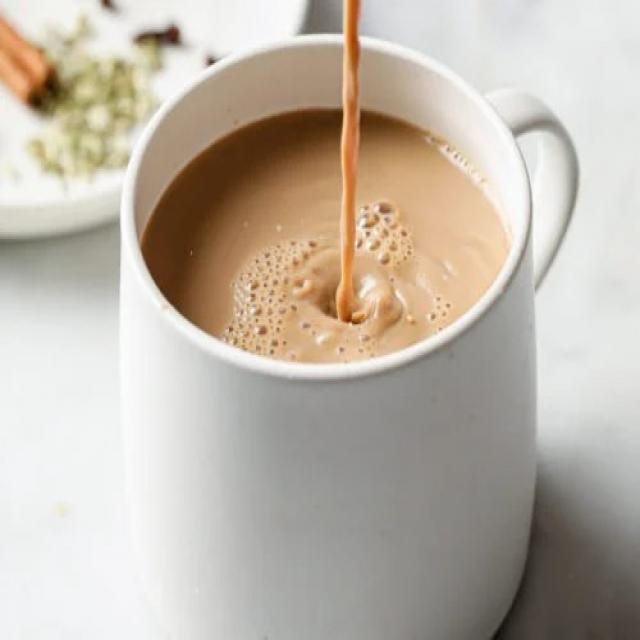Chai: (146, 103, 510, 360), (338, 3, 367, 310)
